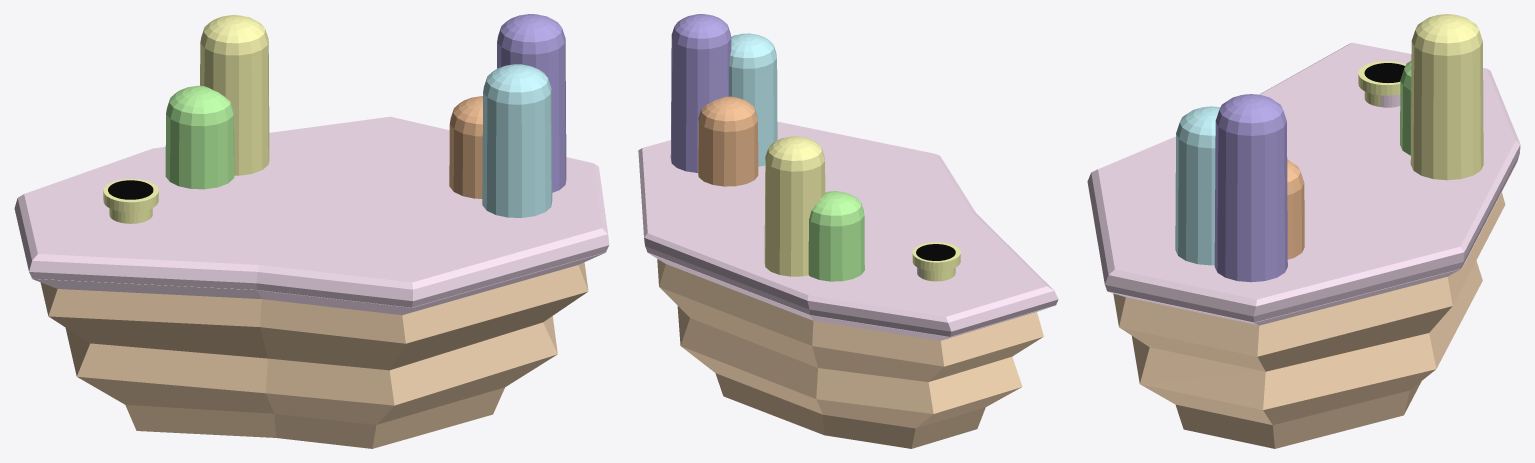
File: world5.gltf
The picture shows the model from 3 angles, left to right: view 1: azimuth 30°, elevation 25°; view 2: azimuth 150°, elevation 25°; view 3: azimuth 270°, elevation 25°; orthographic projection. The views are drawn at different scales.
Parts seen in each view (by area): view 1: Cube.002, Sphere 4.001, Sphere.002, Sphere.001, Sphere 5.001, Sphere 2.002, Cylinder, Cylinder.001; view 2: Cube.002, Sphere.002, Sphere 5.001, Sphere 2.002, Sphere.001, Sphere 4.001, Cylinder, Cylinder.001; view 3: Cube.002, Sphere 5.001, Sphere.002, Sphere 4.001, Sphere 2.002, Sphere.001, Cylinder, Cylinder.001.
Boxes of the visible parts, x1=… form: Cube.002: x1=14, y1=116, x2=609, y2=448; Sphere 4.001: x1=482, y1=64, x2=552, y2=217; Sphere.002: x1=200, y1=15, x2=269, y2=175; Sphere.001: x1=165, y1=85, x2=234, y2=189; Sphere 5.001: x1=497, y1=14, x2=566, y2=192; Sphere 2.002: x1=449, y1=96, x2=482, y2=198; Cylinder: x1=103, y1=179, x2=158, y2=212; Cylinder.001: x1=108, y1=180, x2=153, y2=199; Cube.002: x1=638, y1=121, x2=1058, y2=448; Sphere.002: x1=764, y1=136, x2=825, y2=276; Sphere 5.001: x1=670, y1=14, x2=731, y2=172; Sphere 2.002: x1=698, y1=96, x2=758, y2=186; Sphere.001: x1=808, y1=191, x2=864, y2=281; Sphere 4.001: x1=729, y1=33, x2=777, y2=166; Cylinder: x1=912, y1=242, x2=960, y2=271; Cylinder.001: x1=916, y1=244, x2=955, y2=260; Cube.002: x1=1087, y1=42, x2=1520, y2=448; Sphere 5.001: x1=1214, y1=94, x2=1287, y2=282; Sphere.002: x1=1410, y1=14, x2=1483, y2=180; Sphere 4.001: x1=1175, y1=106, x2=1220, y2=265; Sphere 2.002: x1=1287, y1=159, x2=1304, y2=259; Sphere.001: x1=1400, y1=61, x2=1411, y2=155; Cylinder: x1=1358, y1=61, x2=1405, y2=95; Cylinder.001: x1=1364, y1=63, x2=1404, y2=82.
Bounding box in the file's own units: 13.73 × 8.85 × 9.48.
